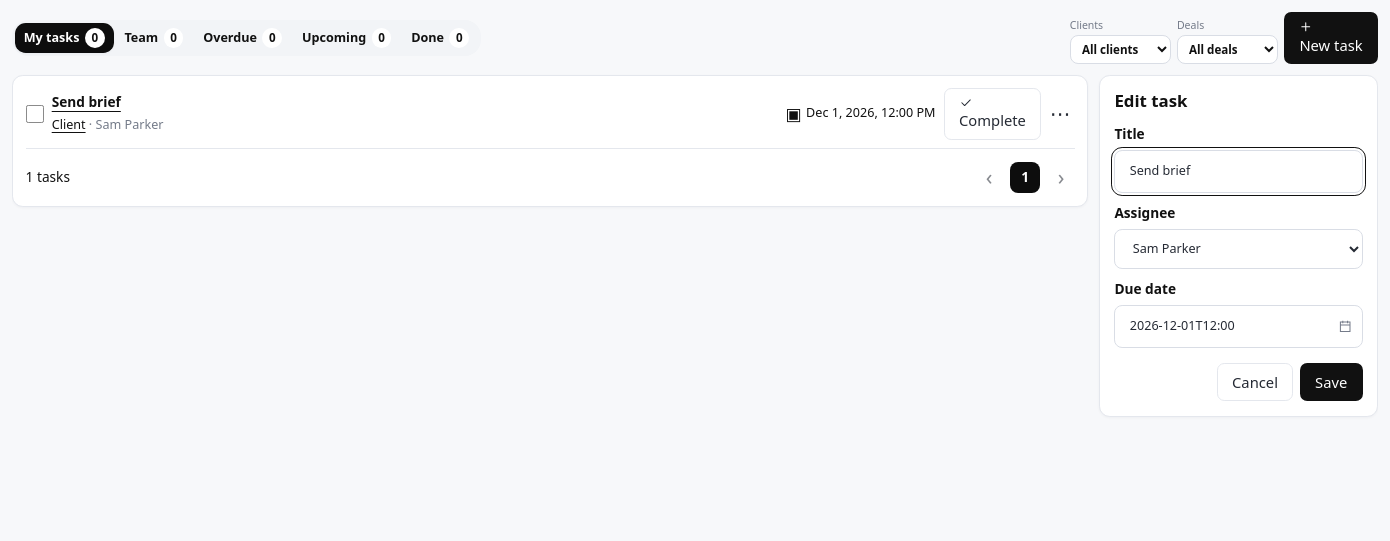
Test case: closes task actions with Escape and preserves the task when deletion fails
Click the button named "Actions for Send brief" at (1060, 114), box [1046, 99, 1075, 128]
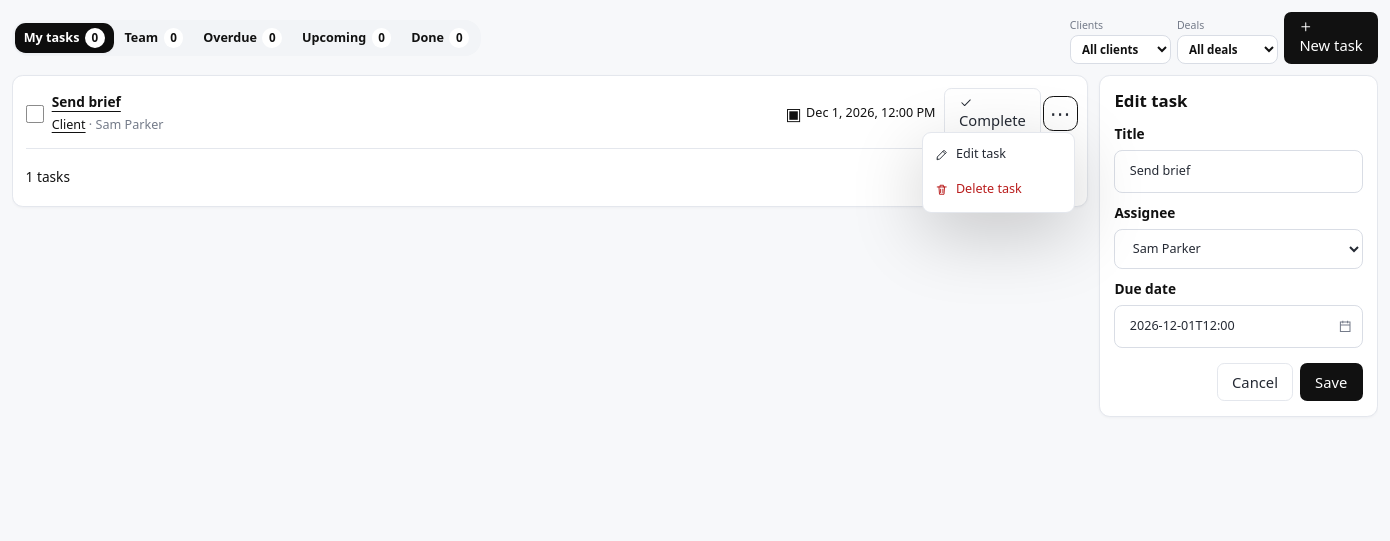
Press Escape
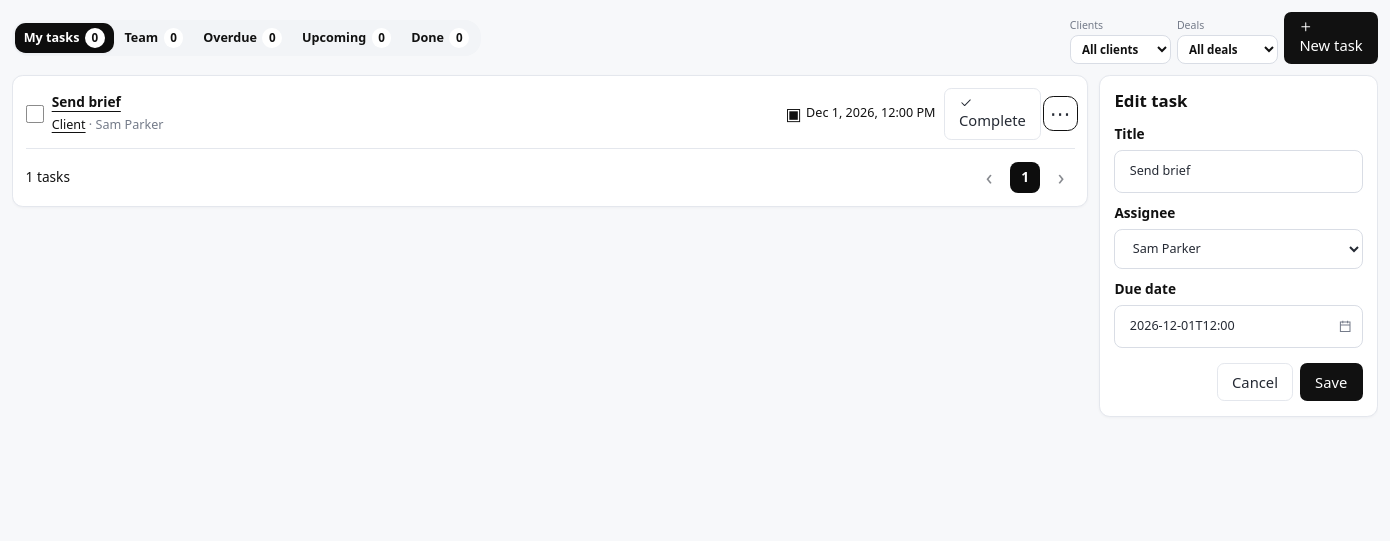
Click the button named "Actions for Send brief" at (1060, 114), box [1046, 99, 1075, 128]
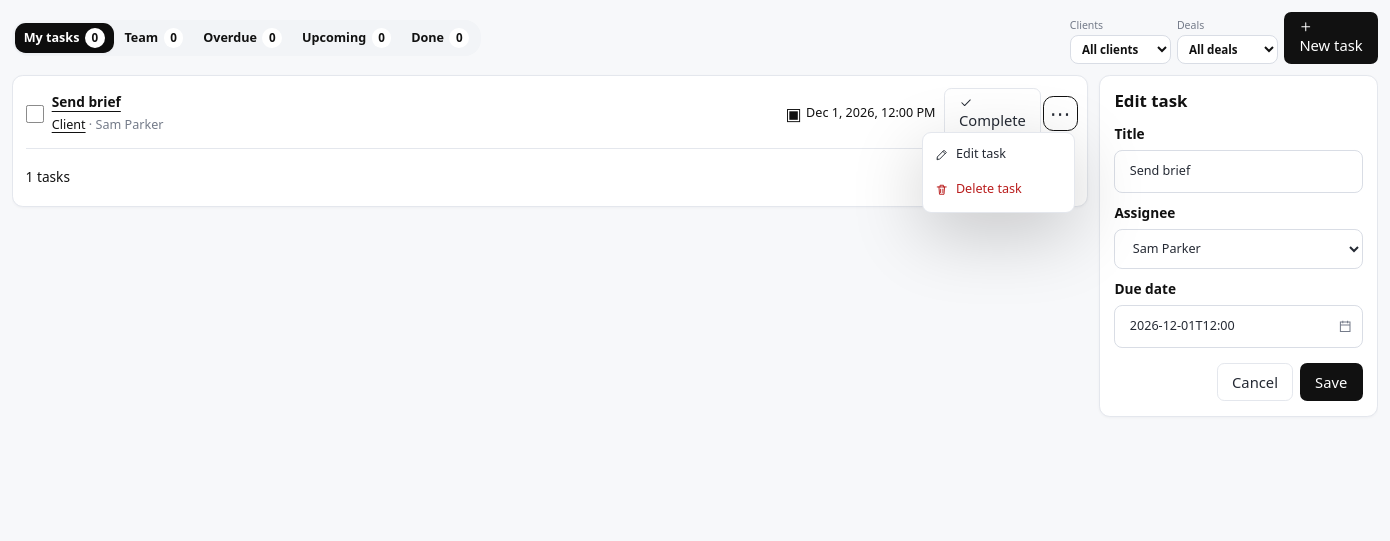
Click the button "Delete task" at (998, 190), box [927, 172, 1069, 207]
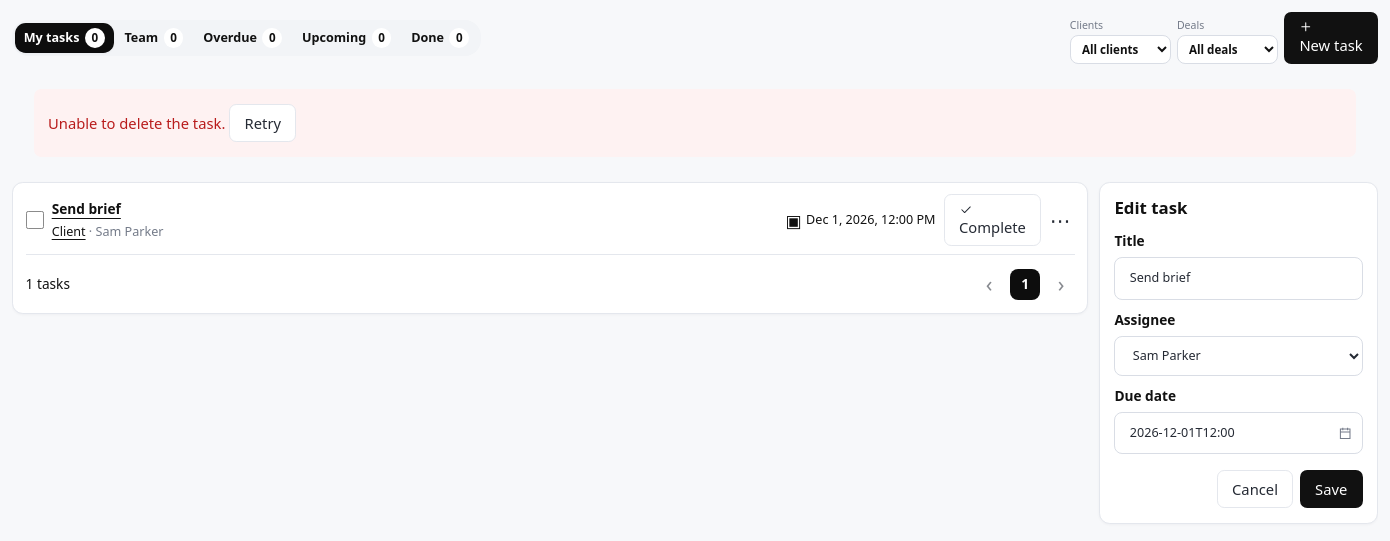
Expected: the button "Send brief" is shown, [52, 199, 121, 220]
Now the message shows "Unable to delete the task.", box [48, 113, 225, 133]
